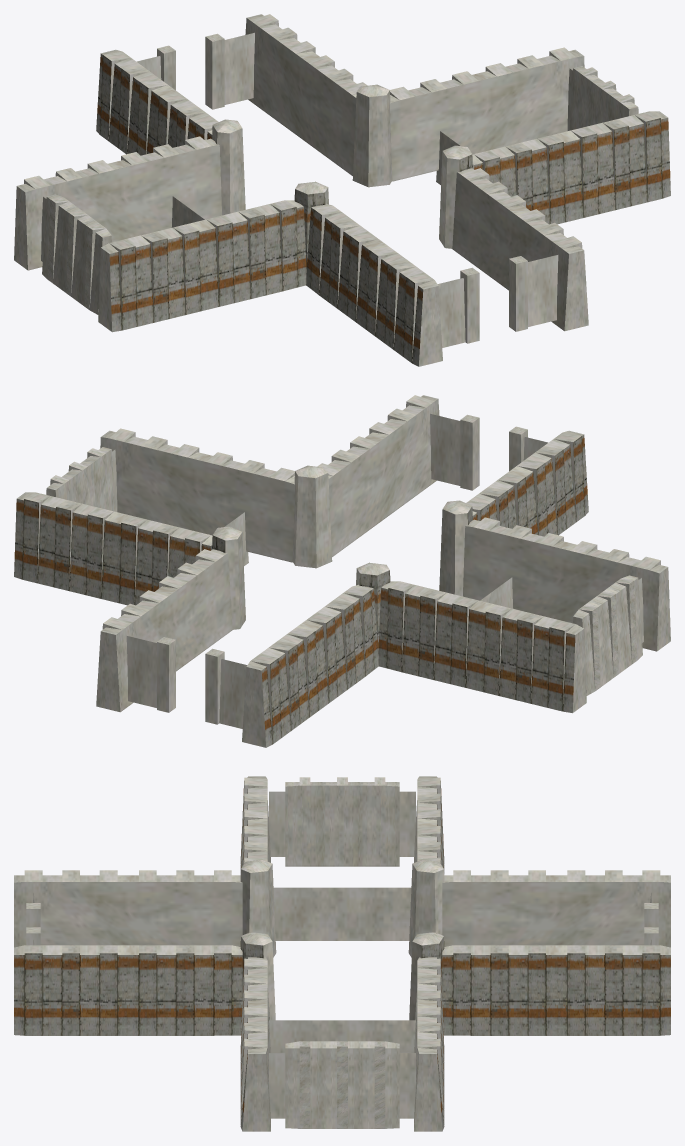
Rendered from poi_all_rebl_corral_64x64_s02_l1.fbx.
3 views of the same model, one above another, from view 1: azimuth 30°, elevation 25°; view 2: azimuth 150°, elevation 25°; view 3: azimuth 270°, elevation 25° (orthographic).
Visible parts, largest first — view 1: mesh_node; view 2: mesh_node; view 3: mesh_node.
Part boxes in pixels (box(x1,y1,x2,y2)): mesh_node: box(14, 14, 670, 366); mesh_node: box(14, 395, 670, 747); mesh_node: box(14, 776, 670, 1131).
Size of the model in its own units: 46 by 8.4 by 46.
1 material, 1 textured.
